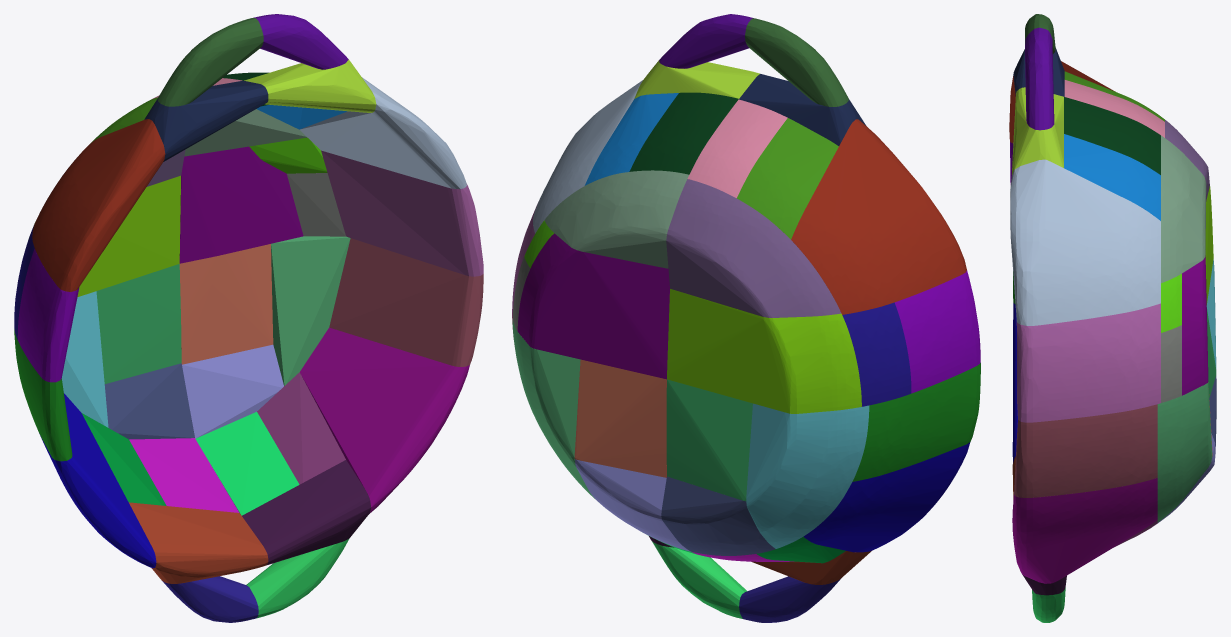
The model's file is coacd_collision.obj.
The picture shows the model from 3 angles, left to right: view 1: azimuth 30°, elevation 25°; view 2: azimuth 150°, elevation 25°; view 3: azimuth 270°, elevation 25°; orthographic projection. The views are drawn at different scales.
Visible parts, largest first — view 1: geometry_14, geometry_13, geometry_15, geometry_7, geometry_11, geometry_9, geometry_3, geometry_6, geometry_10, geometry_31, geometry_26, geometry_5 (+23 smaller); view 2: geometry_15, geometry_4, geometry_11, geometry_1, geometry_2, geometry_0, geometry_9, geometry_8, geometry_10, geometry_5, geometry_32, geometry_30 (+16 smaller); view 3: geometry_6, geometry_7, geometry_13, geometry_14, geometry_3, geometry_0, geometry_29, geometry_25, geometry_11, geometry_27, geometry_34, geometry_24 (+15 smaller).
Boxes of the visible parts, x1=… form: geometry_14: x1=300, y1=327, x2=469, y2=513; geometry_13: x1=329, y1=238, x2=483, y2=366; geometry_15: x1=32, y1=119, x2=165, y2=291; geometry_7: x1=321, y1=150, x2=483, y2=276; geometry_11: x1=179, y1=146, x2=303, y2=263; geometry_9: x1=179, y1=244, x2=273, y2=364; geometry_3: x1=271, y1=236, x2=350, y2=385; geometry_6: x1=299, y1=77, x2=466, y2=189; geometry_10: x1=96, y1=264, x2=181, y2=383; geometry_31: x1=129, y1=502, x2=268, y2=583; geometry_26: x1=242, y1=460, x2=371, y2=565; geometry_5: x1=39, y1=393, x2=156, y2=568; geometry_15: x1=791, y1=119, x2=966, y2=314; geometry_4: x1=667, y1=289, x2=861, y2=413; geometry_11: x1=517, y1=233, x2=669, y2=379; geometry_1: x1=666, y1=179, x2=841, y2=317; geometry_2: x1=746, y1=403, x2=869, y2=548; geometry_0: x1=544, y1=170, x2=688, y2=268; geometry_9: x1=574, y1=359, x2=666, y2=477; geometry_8: x1=852, y1=362, x2=980, y2=481; geometry_10: x1=666, y1=379, x2=752, y2=501; geometry_5: x1=803, y1=442, x2=970, y2=552; geometry_32: x1=894, y1=270, x2=980, y2=393; geometry_30: x1=736, y1=118, x2=838, y2=239; geometry_6: x1=1010, y1=159, x2=1160, y2=325; geometry_7: x1=1016, y1=303, x2=1160, y2=422; geometry_13: x1=1014, y1=404, x2=1157, y2=497; geometry_14: x1=1012, y1=478, x2=1157, y2=583; geometry_3: x1=1157, y1=382, x2=1212, y2=522; geometry_0: x1=1161, y1=135, x2=1206, y2=283; geometry_29: x1=1064, y1=134, x2=1160, y2=220; geometry_25: x1=1064, y1=97, x2=1160, y2=174; geometry_11: x1=1182, y1=255, x2=1208, y2=395; geometry_27: x1=1025, y1=27, x2=1054, y2=130; geometry_34: x1=1011, y1=87, x2=1063, y2=174; geometry_24: x1=1064, y1=80, x2=1164, y2=137.
Bounding box in the file's own units: 193 × 252 × 81.45.
